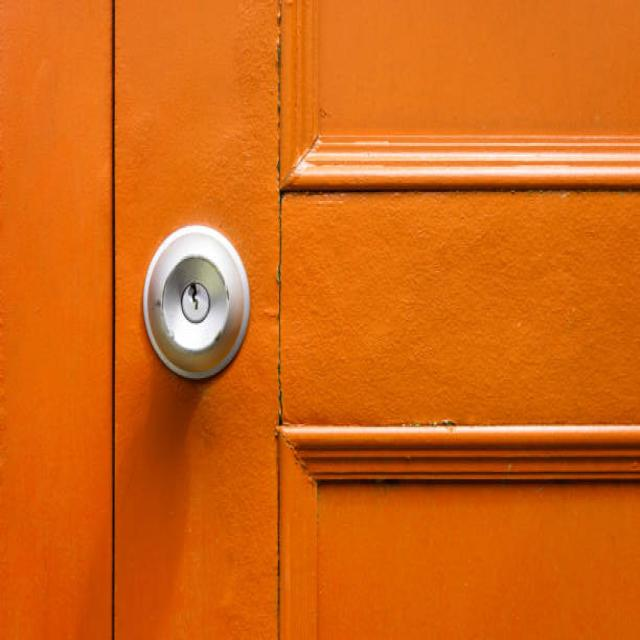door-knob: (144, 226, 249, 379)
